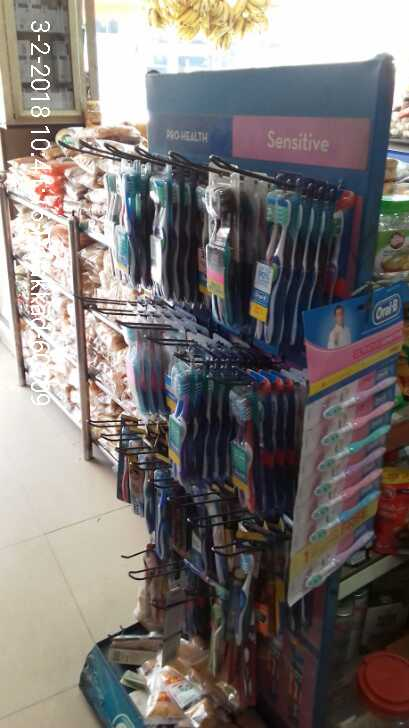oralb: (187, 158, 241, 334), (250, 168, 296, 343), (159, 349, 196, 500)
